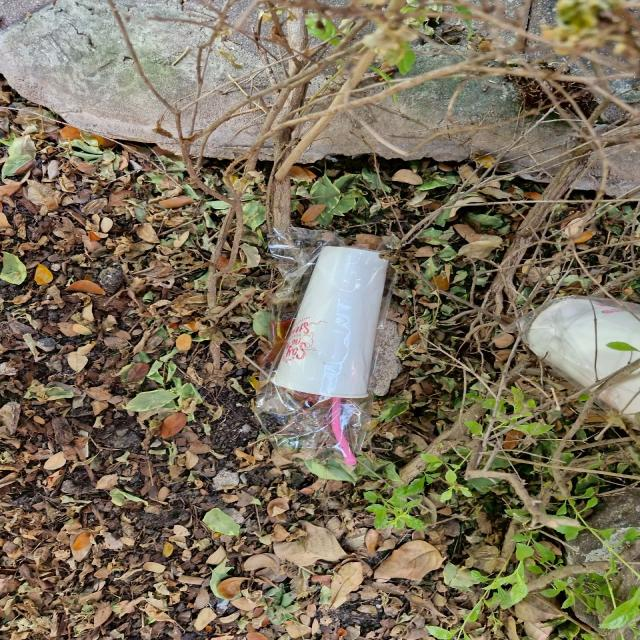paper cup: (251, 236, 389, 470)
plastic cup: (518, 282, 640, 408)
